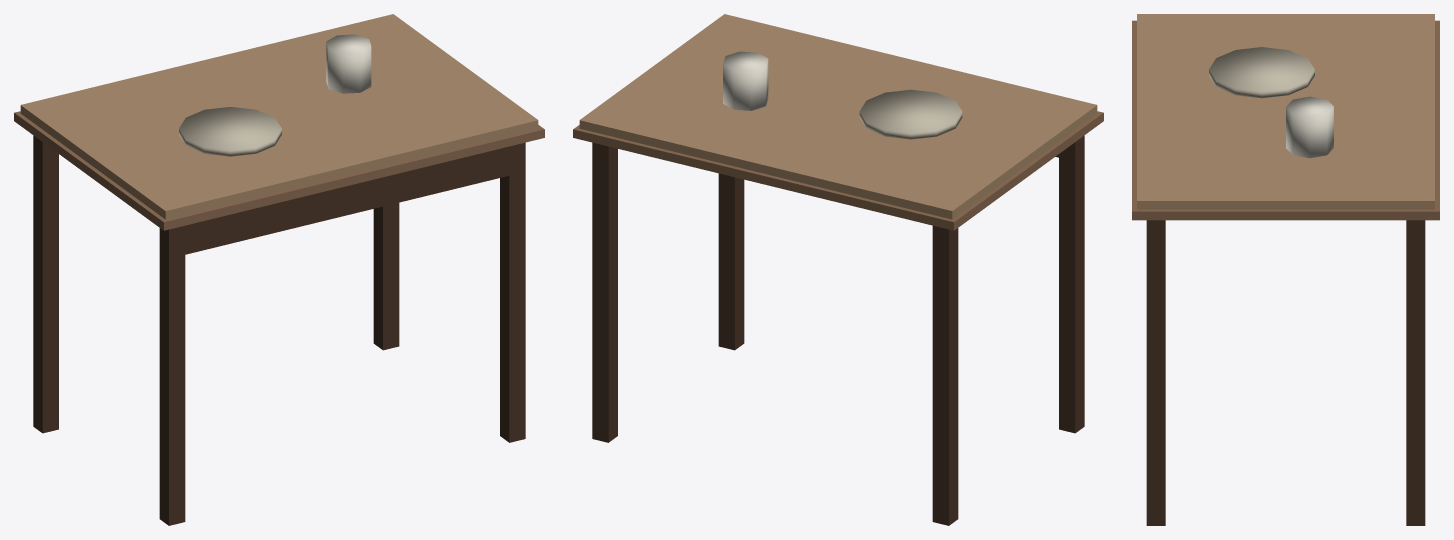
Rendered from kitchen_table.glb.
3 renders of one model, left to right at view 1: azimuth 30°, elevation 25°; view 2: azimuth 150°, elevation 25°; view 3: azimuth 270°, elevation 25°, orthographic. The views are drawn at different scales.
Visible parts, largest first — view 1: KitchenTable; view 2: KitchenTable; view 3: KitchenTable.
Boxes of the visible parts, box(x1,y1,x2,y2) form: KitchenTable: box(14, 14, 544, 525); KitchenTable: box(573, 14, 1103, 525); KitchenTable: box(1132, 14, 1439, 525).
Bounding box in the file's own units: 0.94 × 0.85 × 0.64.
